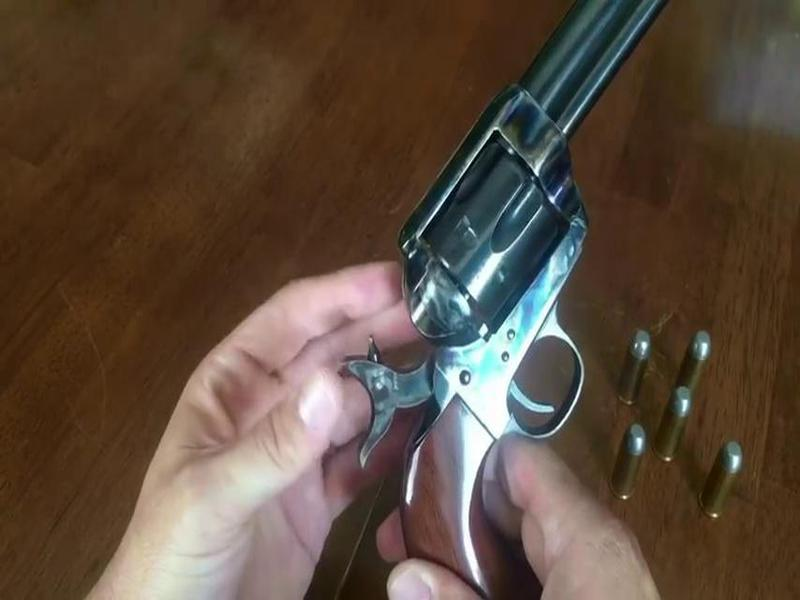Revolver: (351, 5, 634, 502)
